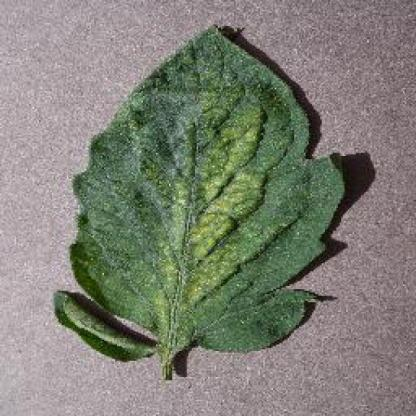Tomato_Spider_Mites: (57, 26, 342, 351)
